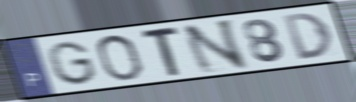8: (242, 18, 284, 64)
D: (280, 10, 335, 61)
G: (45, 40, 100, 87)
N: (179, 17, 251, 76)
O: (94, 32, 146, 83)
T: (140, 24, 183, 79)
